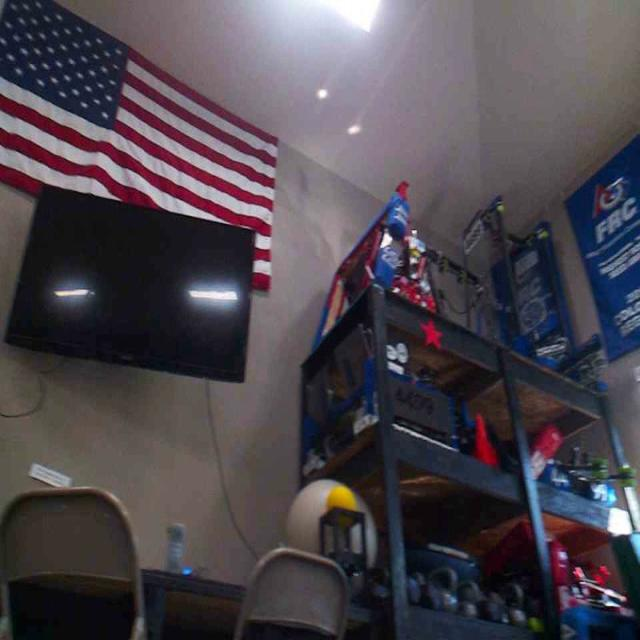star_red: (419, 320, 443, 348)
